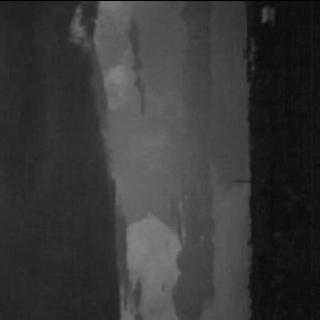Stratocumulus: (72, 0, 238, 320)
